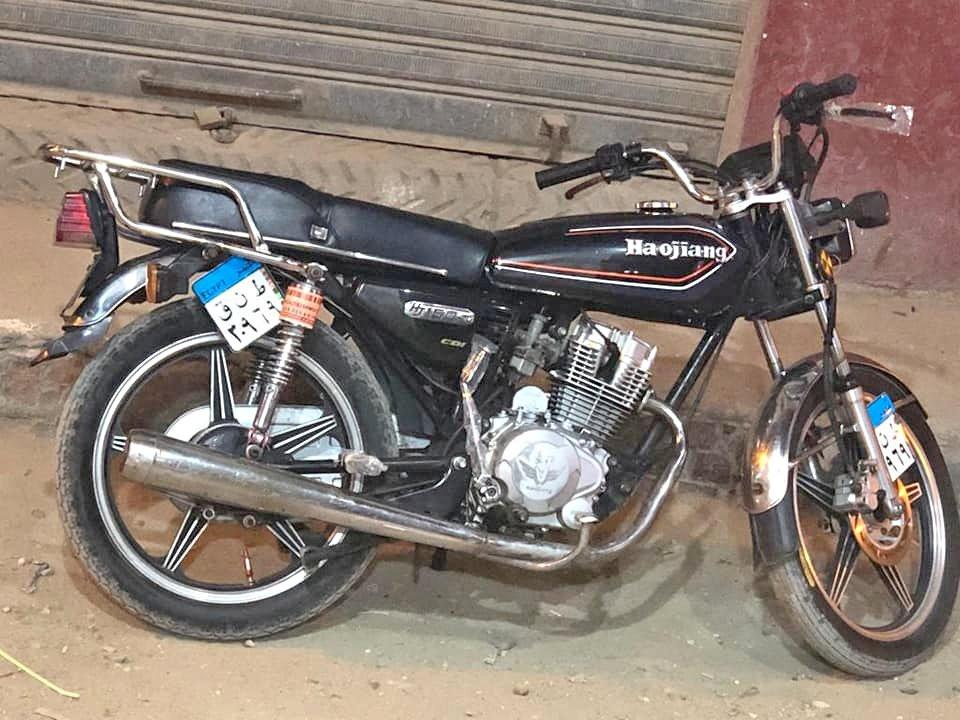License Plate: (189, 252, 293, 349)
